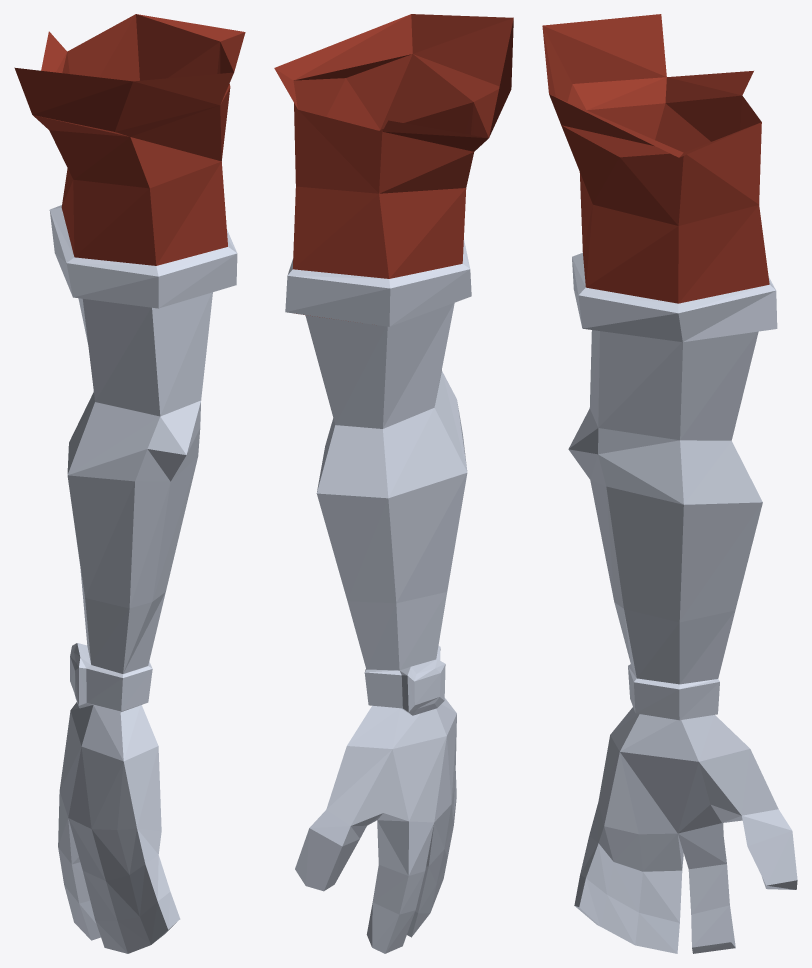
The model's file is ArmL.obj.
3 renders of one model, left to right at view 1: azimuth 30°, elevation 25°; view 2: azimuth 150°, elevation 25°; view 3: azimuth 270°, elevation 25°, orthographic. The views are drawn at different scales.
Bounding box in the file's own units: 0.2291 × 0.8441 × 0.215.
Materials: 1 (1 with a texture image).
